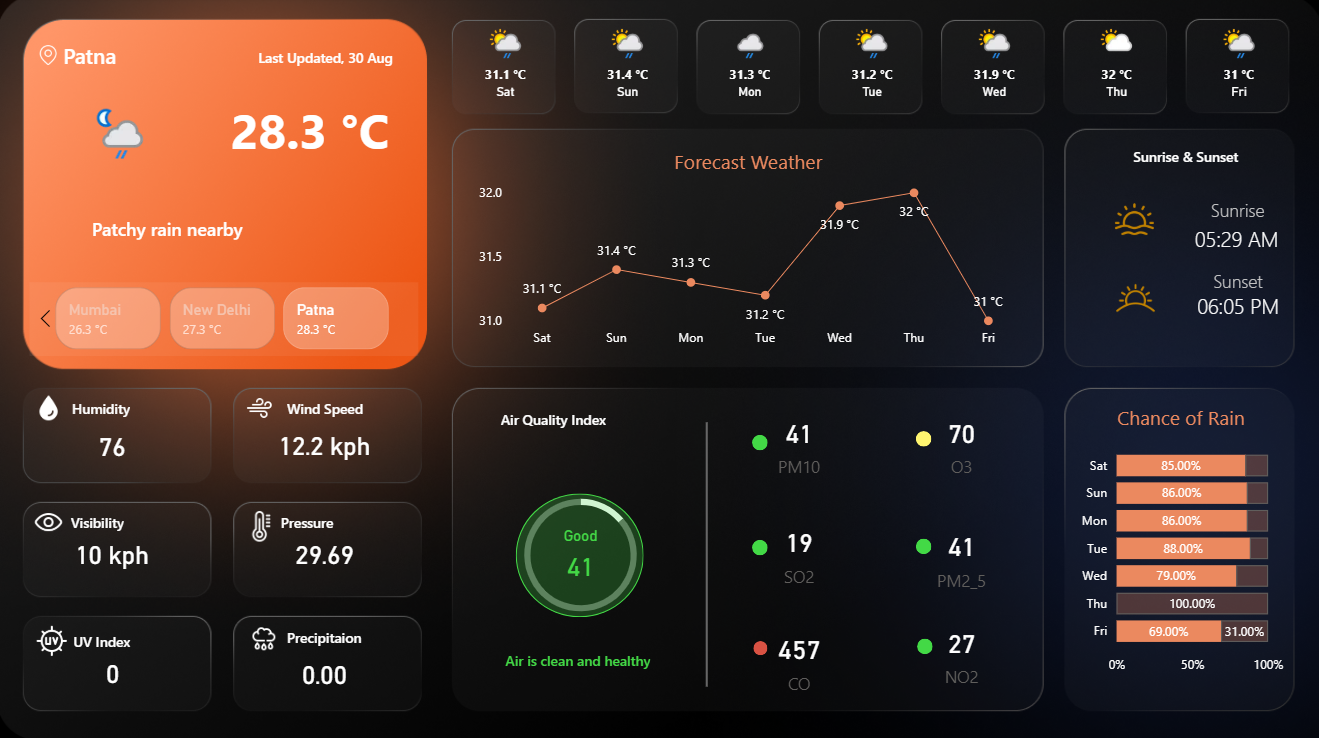

The dashboard page shown, as its layout file describes it:
{"tool":"powerbi","page":{"name":"Page 1","canvas":[1280,720],"ordinal":0},"visuals":[{"type":"donutChart","title":"PM10","fields":{"Y":["Sum(current data.current.air_quality.pm10)","_measure_.left_valuePM10"]},"box":[466.5,466.5,193,145.8],"z":0},{"type":"shape","box":[501.2,480.3,123.6,119.4],"z":1000},{"type":"advancedSlicerVisual","fields":{"Values":["locations.location.name"]},"box":[31.9,276.3,374.8,70.8],"z":2000},{"type":"shape","box":[225.4,78.9,164.8,101.4],"z":3000},{"type":"shape","box":[67.6,173.2,181.7,101.4],"z":4000},{"type":"shape","box":[64.2,5.8,181,101.5],"z":5000},{"type":"shape","box":[199.9,8.3,181.9,101.3],"z":6000},{"type":"image","box":[34.7,36.1,29.2,41.6],"z":7000},{"type":"cardVisual","fields":{"Data":["Min(current data.current.condition.icon)"]},"box":[0,25.4,164.8,259.2],"z":8000},{"type":"image","box":[20.6,487.1,59,41.2],"z":9000},{"type":"image","box":[212.7,492.6,85.1,39.8],"z":10000},{"type":"image","box":[31.6,380.1,37,35.7],"z":11000},{"type":"image","box":[225,602.4,64.5,37],"z":12000},{"type":"image","box":[219.6,380.1,67.2,35.7],"z":13000},{"type":"shape","box":[71.4,456.9,181.1,101.5],"z":14000},{"type":"image","box":[5.5,602.4,93.3,41.2],"z":15000},{"type":"shape","box":[74.1,572.2,181.1,101.5],"z":16000},{"type":"shape","box":[72.7,347.2,181.1,101.5],"z":17000},{"type":"shape","box":[279.9,347.2,181.1,101.5],"z":18000},{"type":"shape","box":[274.4,456.9,181.1,101.5],"z":19000},{"type":"shape","box":[279.9,568.1,181.1,101.5],"z":20000},{"type":"card","fields":{"Values":["Sum(current data.current.humidity)"]},"box":[20.6,382.8,181.1,104.3],"z":21000},{"type":"card","fields":{"Values":["Sum(current data.current.precip_in)"]},"box":[225.6,602,181,105],"z":22000},{"type":"card","fields":{"Values":["Sum(current data.current.uv)"]},"box":[20.5,602,182.2,103.8],"z":23000},{"type":"card","fields":{"Values":["_measure_.visibility"]},"box":[20.5,487.4,181,103.8],"z":24000},{"type":"card","fields":{"Values":["Sum(current data.current.pressure_in)"]},"box":[225.6,487.4,181,103.8],"z":25000},{"type":"card","fields":{"Values":["_measure_.wind_speed"]},"box":[225.6,381.2,181,105],"z":26000},{"type":"advancedSlicerVisual","fields":{"Values":["forcast data by day.day_name"]},"box":[430.8,20.1,830.8,88.3],"z":27000},{"type":"lineChart","title":"Forecast Weather","fields":{"Y":["Sum(forcast data by day.forecast.forecastday.day.avgtemp_c)"],"Category":["forcast data by day.day_name"]},"box":[460.2,147.2,531.1,200.7],"z":28000},{"type":"shape","box":[1096.7,104.1,180.5,101.3],"z":29000},{"type":"shape","box":[1122.4,191.3,148.5,84.3],"z":30000},{"type":"shape","box":[1114.4,248.8,165.9,100.3],"z":31000},{"type":"shape","box":[1123.7,164.5,148.5,84.3],"z":32000},{"type":"shape","box":[1114.4,224.7,165.9,100.3],"z":33000},{"type":"image","box":[1010.7,191.6,173.5,47.2],"z":34000},{"type":"image","box":[1057.9,262.4,81.9,59.7],"z":35000},{"type":"hundredPercentStackedBarChart","title":"Chance of Rain","fields":{"Y":["Sum(forcast data by day.forecast.forecastday.day.daily_chance_of_rain)","_measure_.Left_vale_rain"],"Category":["forcast data by day.day_name"]},"box":[1038.4,394.3,208.2,269.3],"z":36000},{"type":"shape","box":[485.9,358.2,180.5,101.3],"z":37000},{"type":"card","title":"PM10","fields":{"Values":["Sum(current data.current.air_quality.no2)"]},"box":[841.3,583.1,180.5,105.5],"z":38000},{"type":"card","title":"PM10","fields":{"Values":["Sum(current data.current.air_quality.pm10)"]},"box":[684.4,380.4,180.5,105.5],"z":39000},{"type":"card","title":"PM10","fields":{"Values":["Sum(current data.current.air_quality.o3)"]},"box":[841.3,380.4,180.5,105.5],"z":40000},{"type":"card","title":"PM10","fields":{"Values":["Sum(current data.current.air_quality.so2)"]},"box":[684.4,484.5,180.5,106.9],"z":41000},{"type":"card","title":"PM10","fields":{"Values":["Sum(current data.current.air_quality.co)"]},"box":[684.4,588.6,180.5,105.5],"z":42000},{"type":"card","title":"PM10","fields":{"Values":["Sum(current data.current.air_quality.pm2_5)"]},"box":[841.3,490.1,180.5,105.5],"z":43000},{"type":"shape","box":[728.9,423.4,15.3,15.3],"z":44000},{"type":"shape","box":[728.9,524.8,15.3,15.3],"z":45000},{"type":"shape","box":[730.2,622,13.9,13.9],"z":46000},{"type":"shape","box":[888.5,620.6,15.3,15.3],"z":47000},{"type":"shape","box":[887.1,523.4,15.3,15.3],"z":48000},{"type":"shape","box":[887.1,419.3,15.3,15.3],"z":49000},{"type":"shape","box":[594.2,410.9,180.5,255.4],"z":50000},{"type":"card","fields":{"Values":["Sum(current data.current.air_quality.pm10)"]},"box":[473.4,512.3,180.5,59.7],"z":51000},{"type":"shape","box":[470.6,590,180.5,102.7],"z":52000}]}

Visuals, with their boxes in screenshot pixels (x1, y1, x2, y2), scaled from the page's 1280x720 canvas onto the 1319x738 screenshot:
"PM10" donutChart: [left=481, top=478, right=680, bottom=628]
shape: [left=516, top=492, right=644, bottom=615]
advancedSlicerVisual - locations.location.name: [left=33, top=283, right=419, bottom=356]
shape: [left=232, top=81, right=402, bottom=185]
shape: [left=70, top=178, right=257, bottom=281]
shape: [left=66, top=6, right=253, bottom=110]
shape: [left=206, top=9, right=393, bottom=112]
image: [left=36, top=37, right=66, bottom=80]
cardVisual - Min(current data.current.condition.icon): [left=0, top=26, right=170, bottom=292]
image: [left=21, top=499, right=82, bottom=542]
image: [left=219, top=505, right=307, bottom=546]
image: [left=33, top=390, right=71, bottom=426]
image: [left=232, top=617, right=298, bottom=655]
image: [left=226, top=390, right=296, bottom=426]
shape: [left=74, top=468, right=260, bottom=572]
image: [left=6, top=617, right=102, bottom=660]
shape: [left=76, top=587, right=263, bottom=691]
shape: [left=75, top=356, right=262, bottom=460]
shape: [left=288, top=356, right=475, bottom=460]
shape: [left=283, top=468, right=469, bottom=572]
shape: [left=288, top=582, right=475, bottom=686]
card - Sum(current data.current.humidity): [left=21, top=392, right=208, bottom=499]
card - Sum(current data.current.precip_in): [left=232, top=617, right=419, bottom=725]
card - Sum(current data.current.uv): [left=21, top=617, right=209, bottom=723]
card - _measure_.visibility: [left=21, top=500, right=208, bottom=606]
card - Sum(current data.current.pressure_in): [left=232, top=500, right=419, bottom=606]
card - _measure_.wind_speed: [left=232, top=391, right=419, bottom=498]
advancedSlicerVisual - forcast data by day.day_name: [left=444, top=21, right=1300, bottom=111]
"Forecast Weather" lineChart: [left=474, top=151, right=1022, bottom=357]
shape: [left=1130, top=107, right=1316, bottom=211]
shape: [left=1157, top=196, right=1310, bottom=282]
shape: [left=1148, top=255, right=1318, bottom=358]
shape: [left=1158, top=169, right=1311, bottom=255]
shape: [left=1148, top=230, right=1318, bottom=333]
image: [left=1041, top=196, right=1220, bottom=245]
image: [left=1090, top=269, right=1175, bottom=330]
"Chance of Rain" hundredPercentStackedBarChart: [left=1070, top=404, right=1285, bottom=680]
shape: [left=501, top=367, right=687, bottom=471]
"PM10" card: [left=867, top=598, right=1053, bottom=706]
"PM10" card: [left=705, top=390, right=891, bottom=498]
"PM10" card: [left=867, top=390, right=1053, bottom=498]
"PM10" card: [left=705, top=497, right=891, bottom=606]
"PM10" card: [left=705, top=603, right=891, bottom=711]
"PM10" card: [left=867, top=502, right=1053, bottom=610]
shape: [left=751, top=434, right=767, bottom=450]
shape: [left=751, top=538, right=767, bottom=554]
shape: [left=752, top=638, right=767, bottom=652]
shape: [left=916, top=636, right=931, bottom=652]
shape: [left=914, top=536, right=930, bottom=552]
shape: [left=914, top=430, right=930, bottom=445]
shape: [left=612, top=421, right=798, bottom=683]
card - Sum(current data.current.air_quality.pm10): [left=488, top=525, right=674, bottom=586]
shape: [left=485, top=605, right=671, bottom=710]
